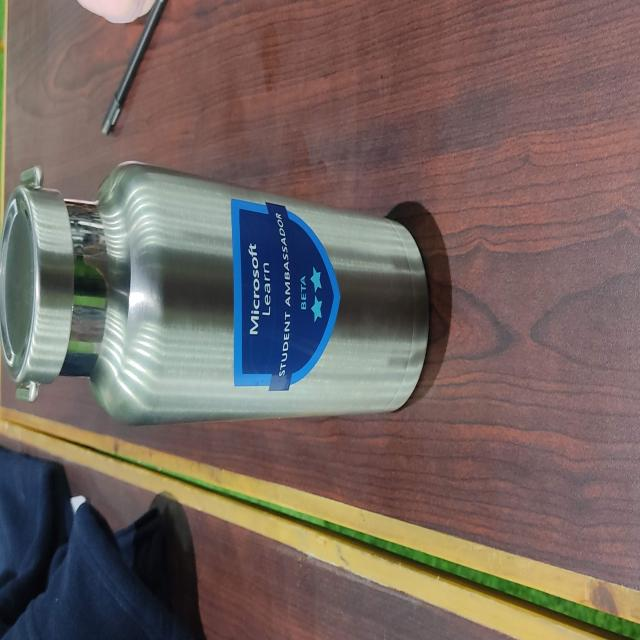Pringles: (1, 158, 431, 425)
